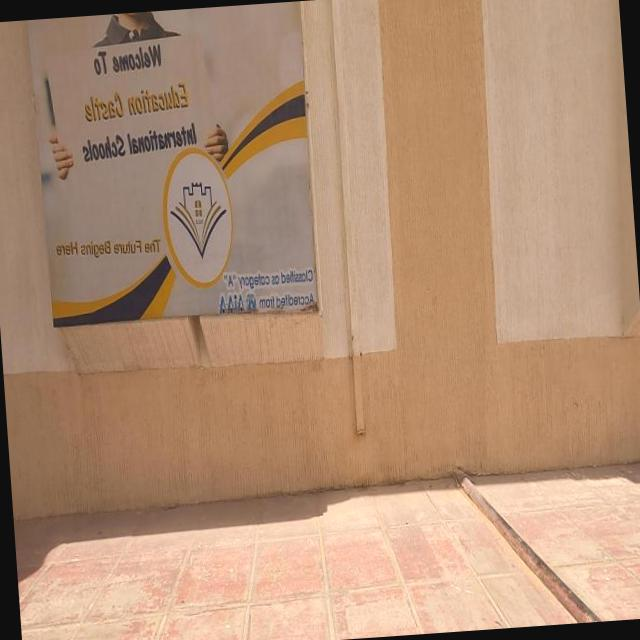debris: (0, 0, 483, 568)
